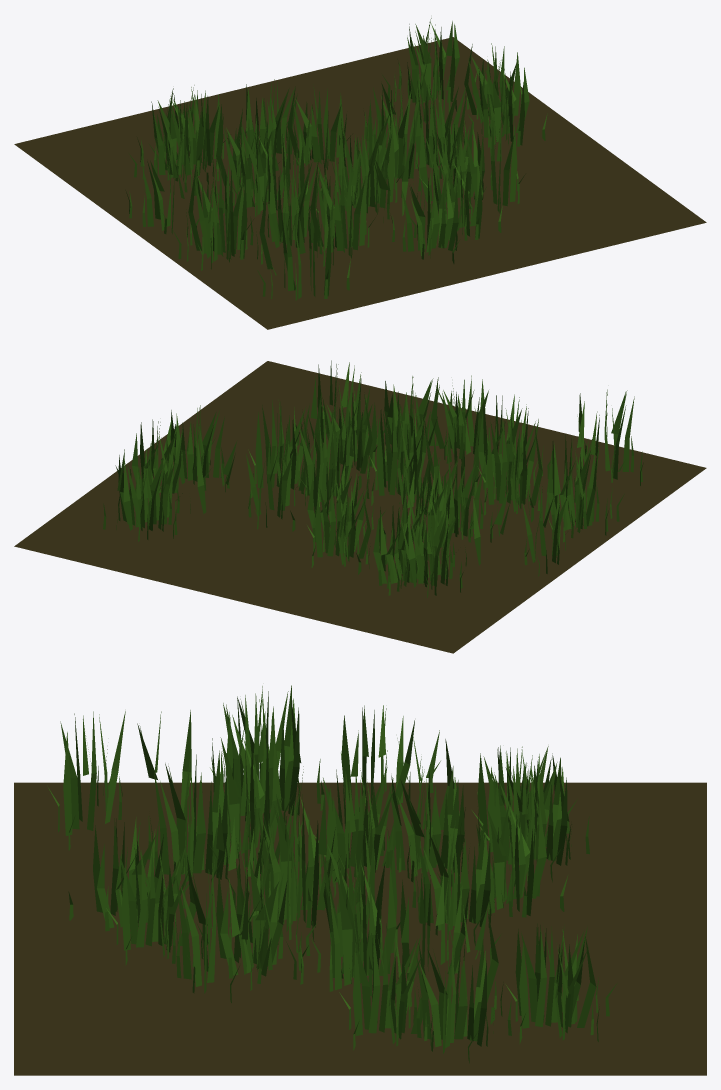
Rendered from grass.glb.
The picture shows the model from 3 angles, top to bottom: view 1: azimuth 30°, elevation 25°; view 2: azimuth 150°, elevation 25°; view 3: azimuth 270°, elevation 25°; orthographic projection. The views are drawn at different scales.
Visible parts, largest first — view 1: Plane.001, Plane; view 2: Plane.001, Plane; view 3: Plane.001, Plane.
Boxes of the visible parts, x1,y1,x2,y2 form: Plane.001: (14,37,706,329); Plane: (125,18,547,300); Plane.001: (14,361,706,653); Plane: (103,360,643,597); Plane.001: (14,782,706,1075); Plane: (47,685,617,1063).
Bounding box in the file's own units: 2 × 0.4058 × 2.
2 materials, 1 textured.
